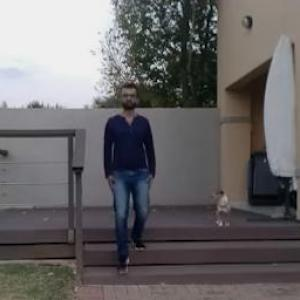follow: (103, 84, 150, 273)
